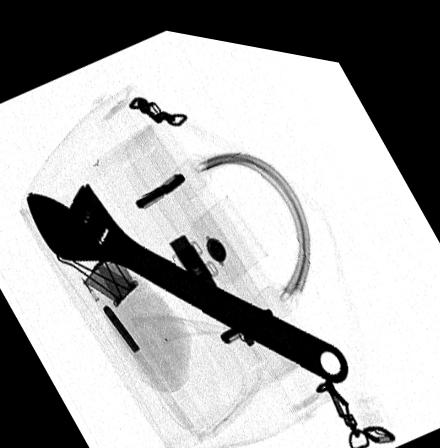Wrench: (25, 173, 351, 373)
